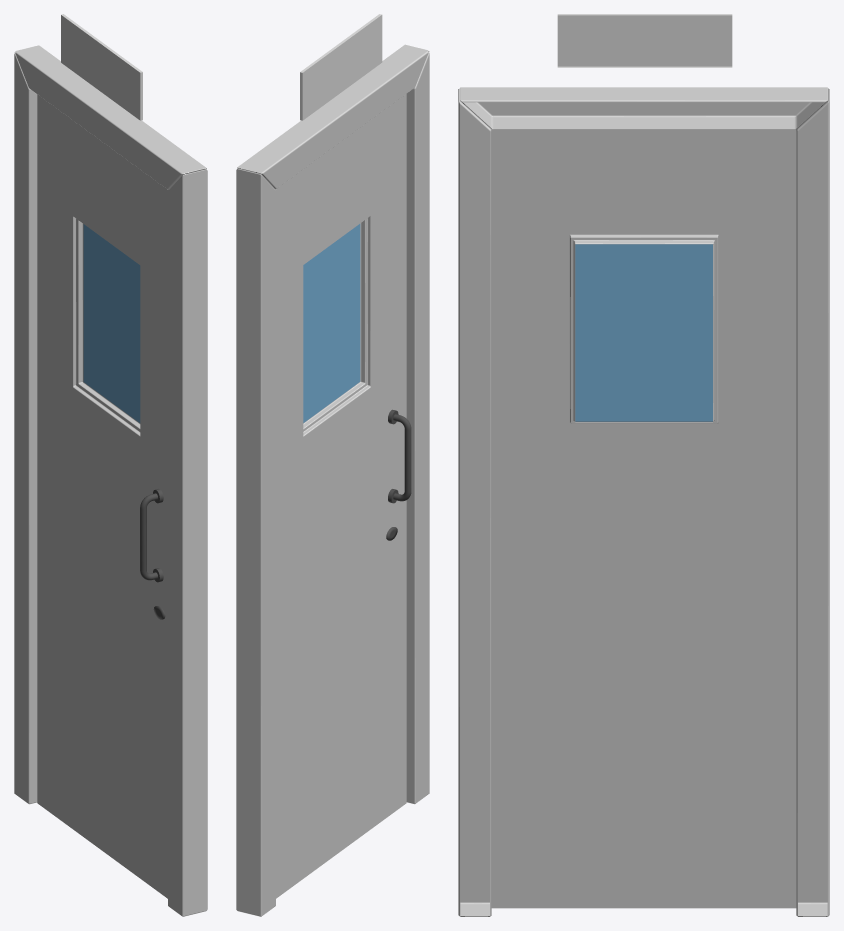
File: Door.fbx
3 views of the same model, side by side, from view 1: azimuth 30°, elevation 25°; view 2: azimuth 150°, elevation 25°; view 3: azimuth 270°, elevation 25° (orthographic). The views are drawn at different scales.
Parts seen in each view (by area): view 1: Door, Door Title; view 2: Door, Door Title; view 3: Door, Door Title.
Part boxes in pixels (x1,y1,x2,y2): Door: [14, 45, 207, 916]; Door Title: [61, 14, 142, 120]; Door: [236, 44, 429, 916]; Door Title: [300, 14, 382, 120]; Door: [458, 87, 829, 916]; Door Title: [557, 14, 732, 67].
Size of the model in its own units: 0.128 by 2.66 by 1.
